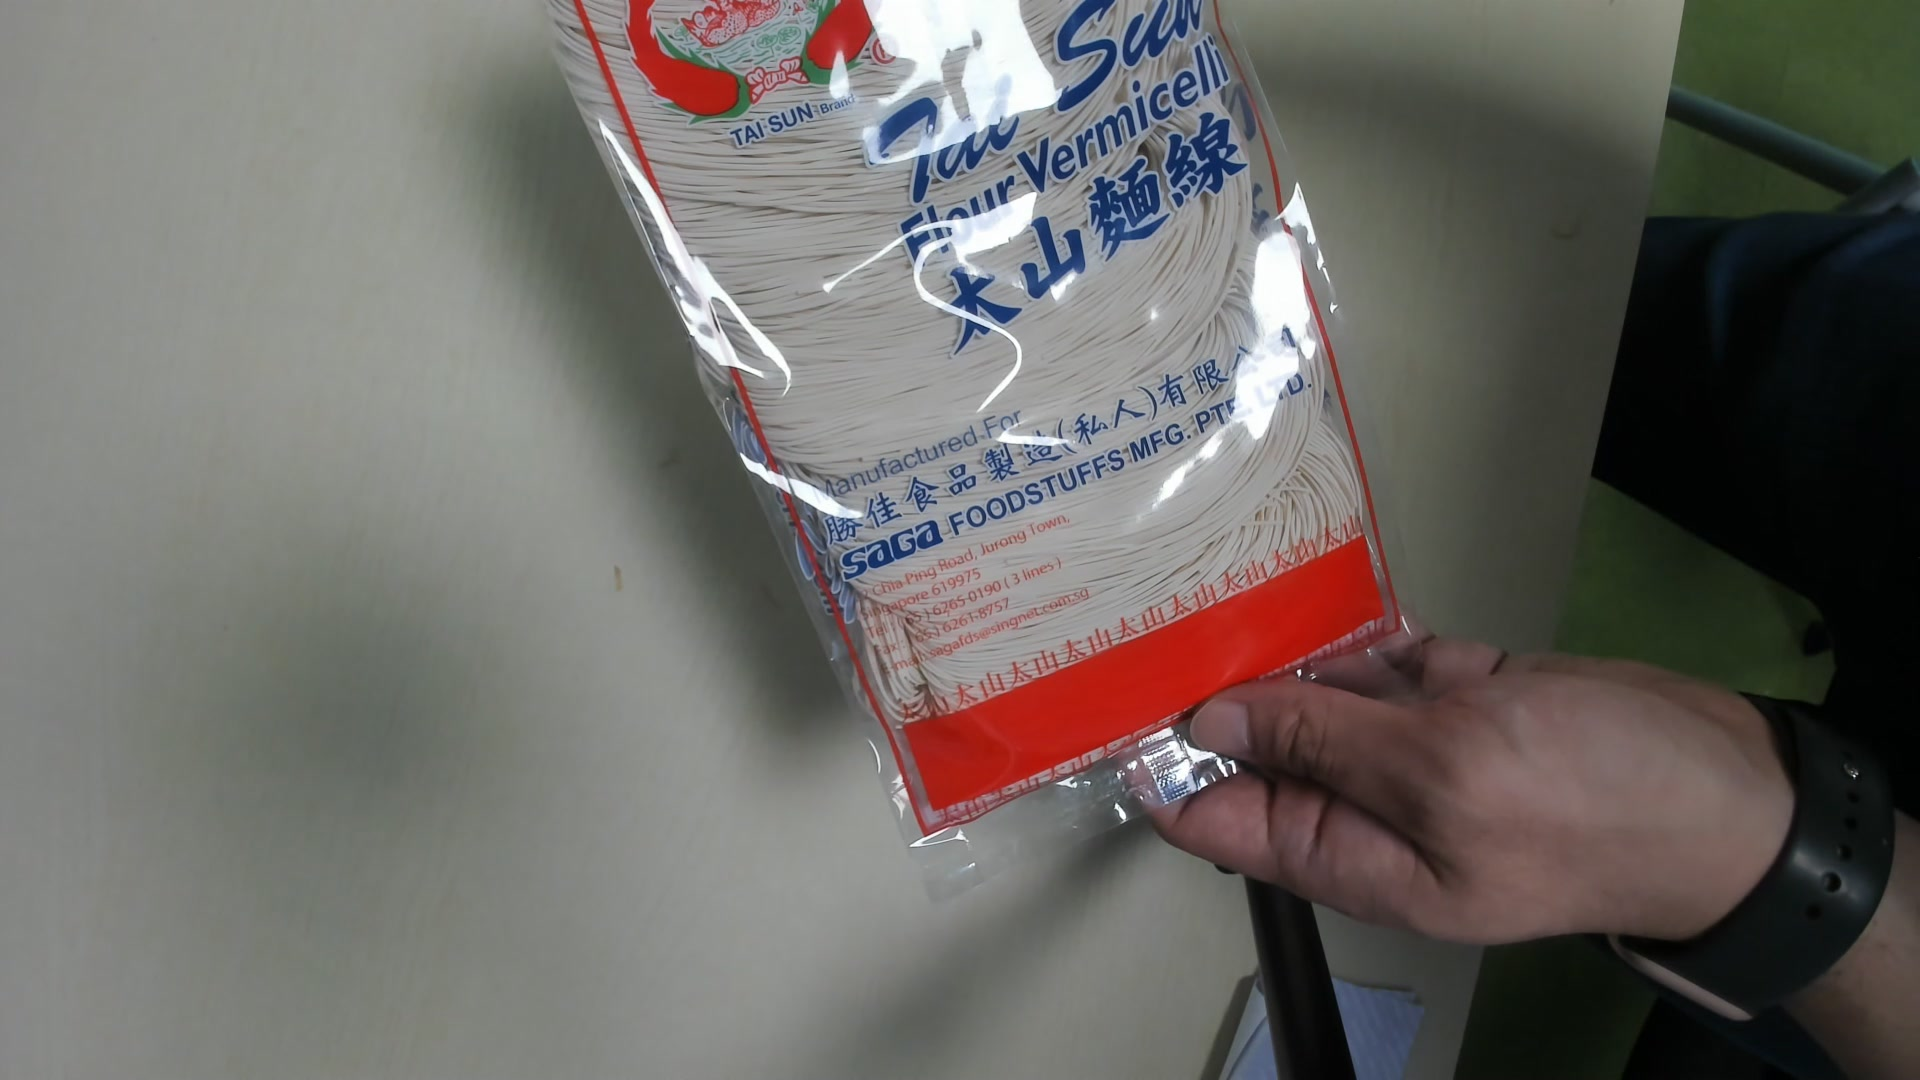BeeHoonVermicelli_300-399g_Halal_NonHealthy: (541, 8, 1414, 878)
